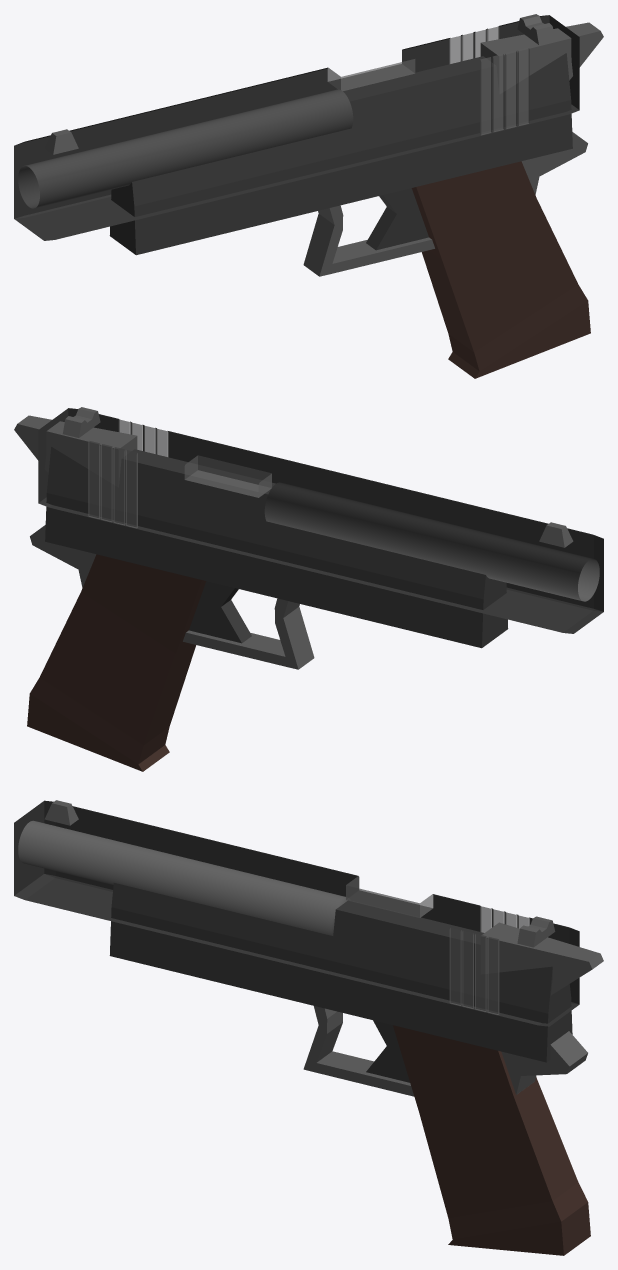
The model's file is pistol_new.glb.
The picture shows the model from 3 angles, top to bottom: view 1: azimuth 30°, elevation 25°; view 2: azimuth 150°, elevation 25°; view 3: azimuth 330°, elevation 25°; orthographic projection.
Parts seen in each view (by area): view 1: Cube.008; view 2: Cube.008; view 3: Cube.008.
Boxes of the visible parts, box(x1,y1,x2,y2) form: Cube.008: box(14, 14, 603, 378); Cube.008: box(14, 407, 603, 771); Cube.008: box(14, 800, 603, 1255).
Size of the model in its own units: 6.25 by 3.51 by 0.6.
